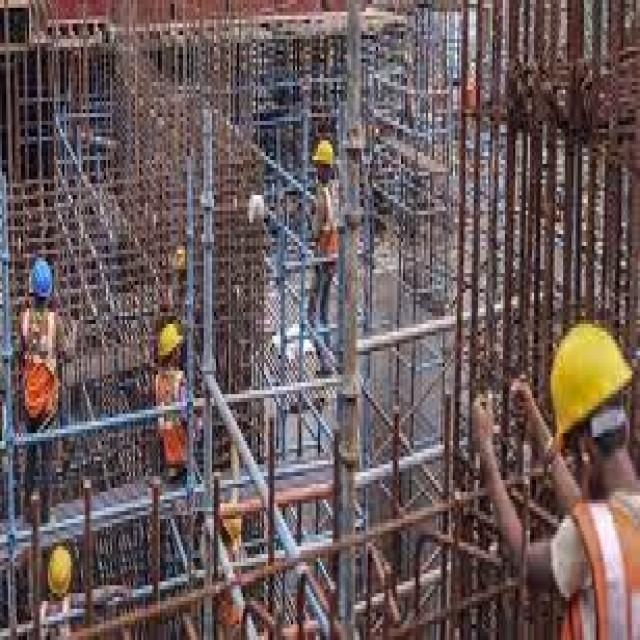Reflective-Jacket: (555, 480, 640, 640), (150, 367, 195, 488), (12, 304, 66, 382), (310, 180, 342, 266)
Safety-Helmet: (540, 308, 638, 457), (12, 304, 68, 394), (44, 535, 79, 601), (152, 312, 189, 367), (25, 250, 58, 304), (310, 128, 340, 176)
